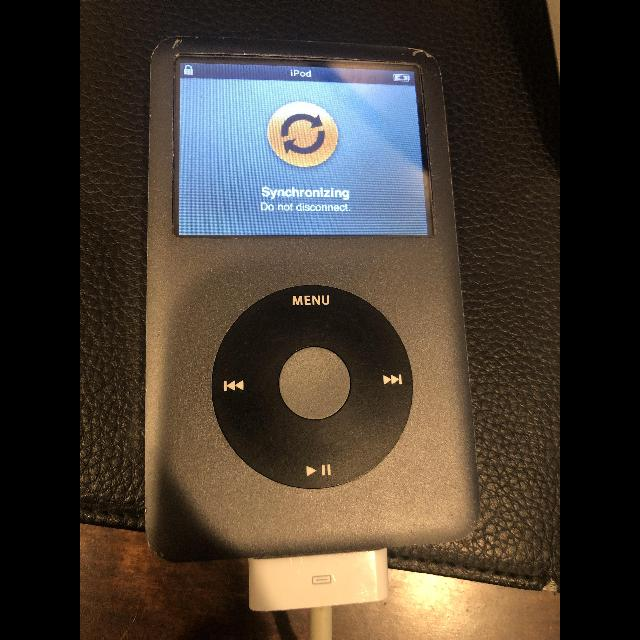Music-Player: (130, 24, 488, 566)
